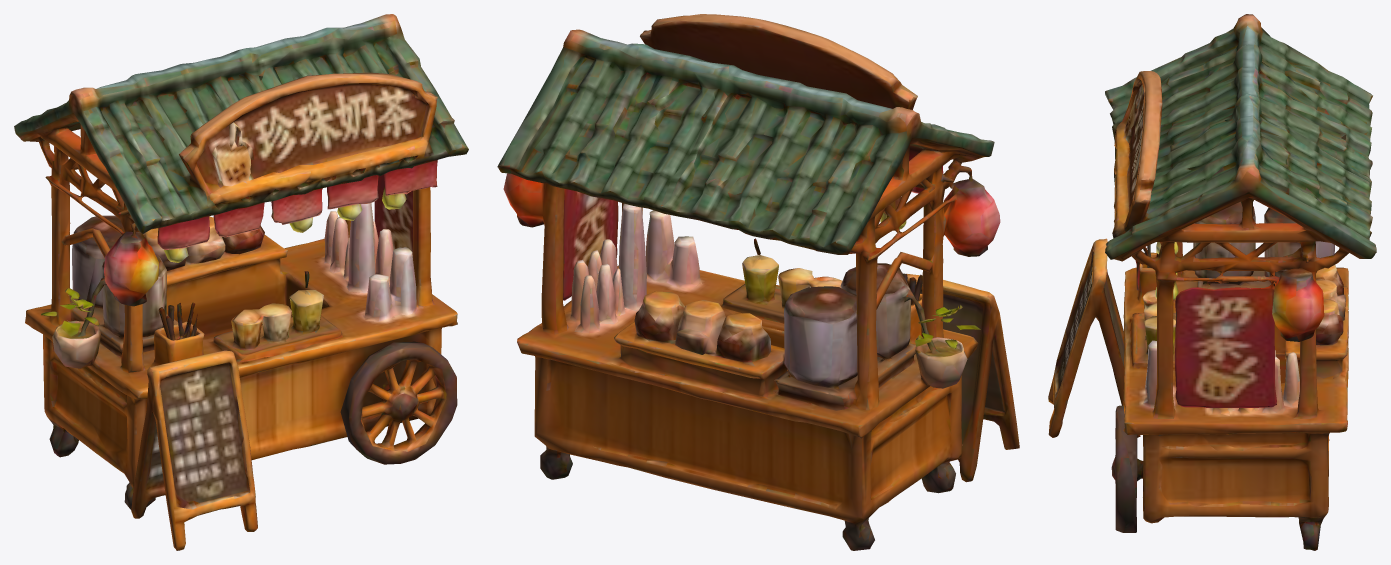
File: stall-boba-lite.glb
3 renders of one model, left to right at view 1: azimuth 30°, elevation 25°; view 2: azimuth 150°, elevation 25°; view 3: azimuth 270°, elevation 25°, orthographic. The views are drawn at different scales.
Parts seen in each view (by area): view 1: tripo_node_d3309372-d2d3-49d0-810c-d5718061d40f; view 2: tripo_node_d3309372-d2d3-49d0-810c-d5718061d40f; view 3: tripo_node_d3309372-d2d3-49d0-810c-d5718061d40f.
Boxes of the visible parts, box(x1,y1,x2,y2) form: tripo_node_d3309372-d2d3-49d0-810c-d5718061d40f: box(14, 14, 468, 550); tripo_node_d3309372-d2d3-49d0-810c-d5718061d40f: box(497, 14, 1019, 550); tripo_node_d3309372-d2d3-49d0-810c-d5718061d40f: box(1048, 14, 1376, 550).
Size of the model in its own units: 0.9847 by 0.9528 by 0.7261.
Materials: 1 (1 with a texture image).
